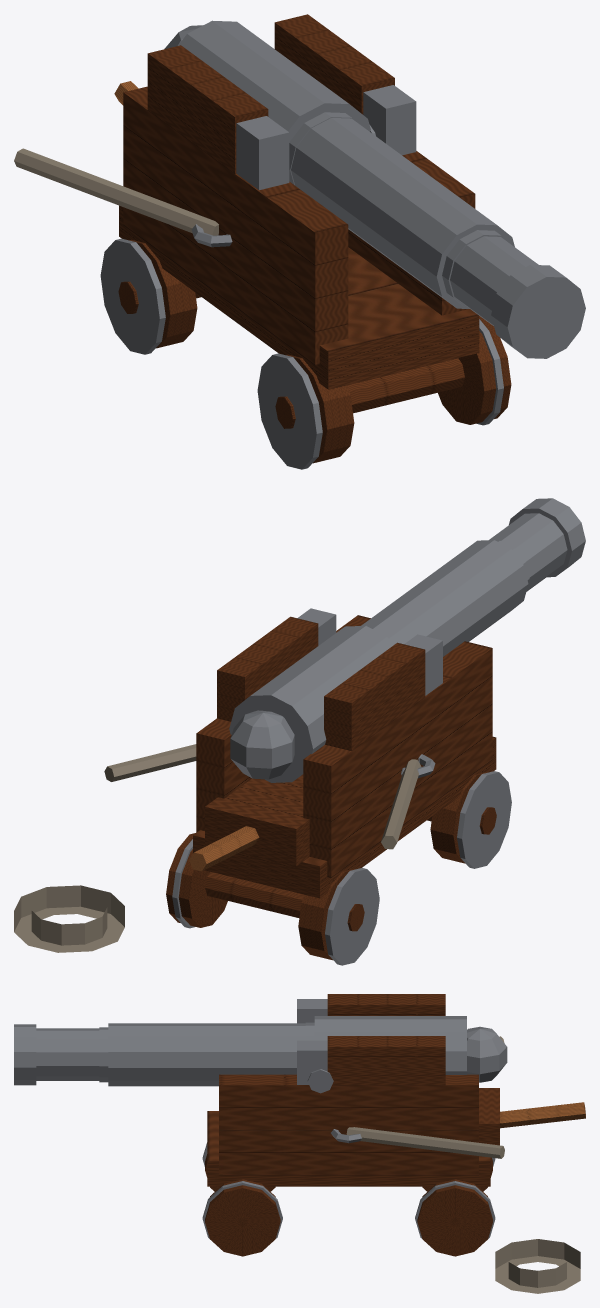
File: pirate-port-and-tall-ships-deck-cannon-26a20dff__30158.glb
The picture shows the model from 3 angles, top to bottom: view 1: azimuth 30°, elevation 25°; view 2: azimuth 150°, elevation 25°; view 3: azimuth 270°, elevation 25°; orthographic projection. The views are drawn at different scales.
Parts seen in each view (by area): view 1: deck-cannon; view 2: deck-cannon; view 3: deck-cannon.
Boxes of the visible parts, x1,y1,x2,y2 form: deck-cannon: (14,14,585,469); deck-cannon: (14,498,585,965); deck-cannon: (14,994,585,1293).
Size of the model in its own units: 1.39 by 0.9549 by 2.42.
4 materials, 2 textured.
